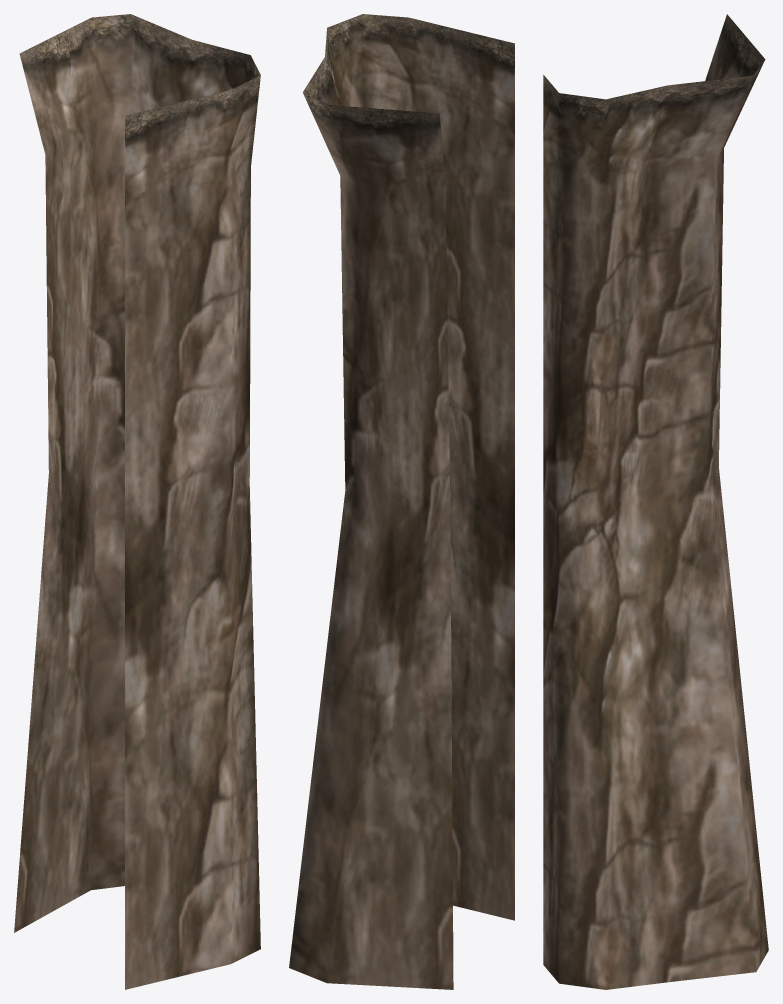
The model's file is OVERHILL_A_01_LINE36.fbx.
3 views of the same model, side by side, from view 1: azimuth 30°, elevation 25°; view 2: azimuth 150°, elevation 25°; view 3: azimuth 270°, elevation 25° (orthographic).
Parts seen in each view (by area): view 1: OVERHILL_A_01_LINE36; view 2: OVERHILL_A_01_LINE36; view 3: OVERHILL_A_01_LINE36.
Part boxes in pixels (x1=…): OVERHILL_A_01_LINE36: x1=14, y1=14, x2=260, y2=989; OVERHILL_A_01_LINE36: x1=289, y1=14, x2=514, y2=989; OVERHILL_A_01_LINE36: x1=543, y1=14, x2=768, y2=989.
Size of the model in its own units: 18339 by 84500 by 19402.
Materials: 2 (2 with a texture image).
